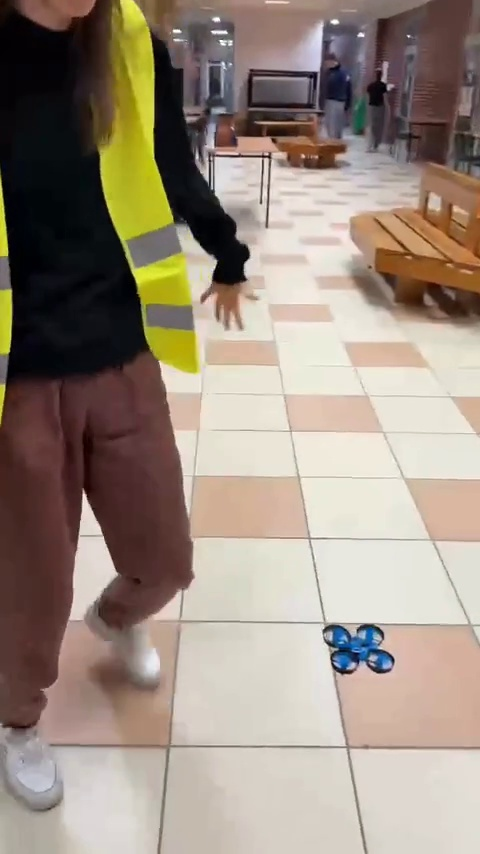drone: (318, 620, 397, 673)
no vest: (362, 64, 402, 149), (312, 48, 349, 139)
vest: (0, 0, 216, 796)
